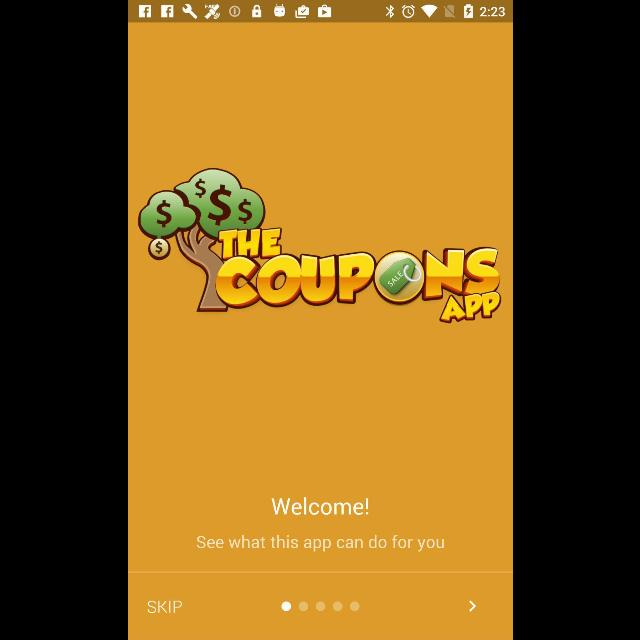icon: (468, 600, 476, 612)
image: (136, 168, 500, 322)
pageindicator: (280, 600, 360, 612)
text: (195, 536, 442, 552), (270, 497, 368, 515), (147, 600, 181, 614)
uppertaskbar: (128, 1, 512, 23)
